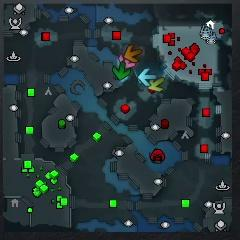x1: (118, 53, 135, 68)
x2: (147, 77, 164, 91)
x3: (139, 68, 157, 86)
x4: (112, 61, 130, 80)
x5: (124, 45, 142, 62)
